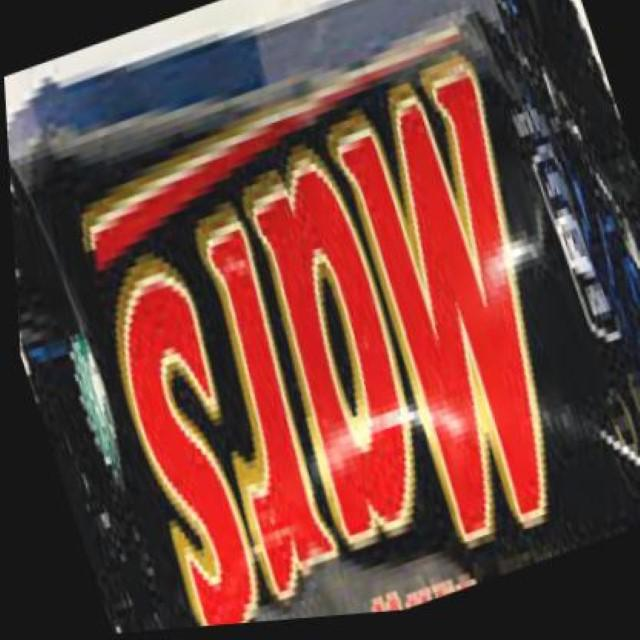mars_chocolate: (112, 35, 550, 640)
